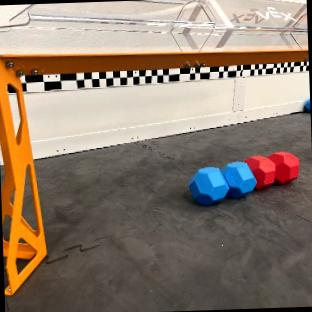V5_BLUE: (189, 161, 256, 204), (304, 99, 310, 112)
V5_RED: (246, 152, 299, 189)
